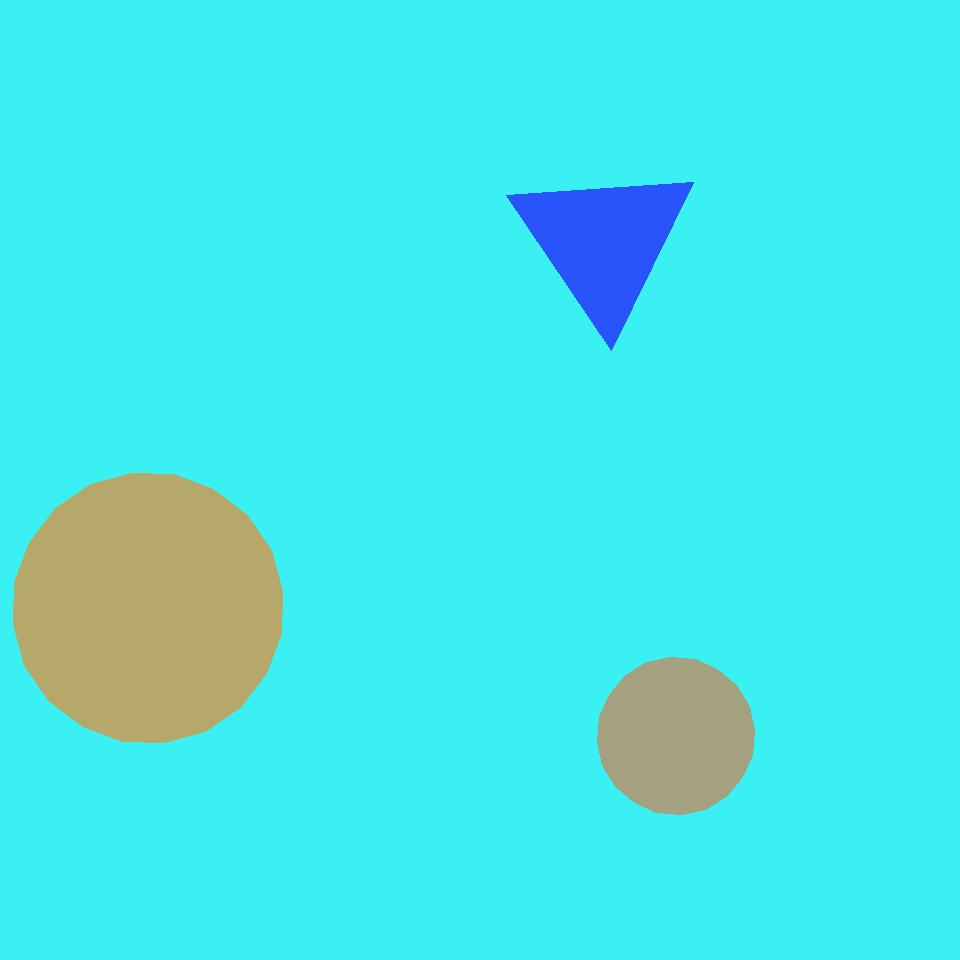circle: (22, 362, 258, 594), (510, 159, 698, 327), (139, 572, 287, 710)
triangle: (500, 469, 813, 782), (14, 473, 283, 742), (180, 216, 377, 414), (598, 658, 755, 815)
